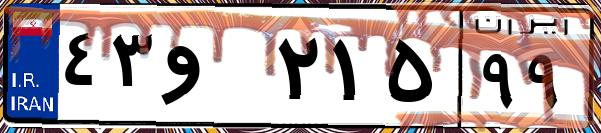1: (330, 28, 385, 110)
2: (270, 28, 330, 110)
3: (110, 28, 158, 98)
4: (57, 26, 110, 100)
5: (385, 28, 445, 110)
9: (475, 38, 525, 113), (525, 38, 570, 115)
و: (158, 20, 270, 120)
